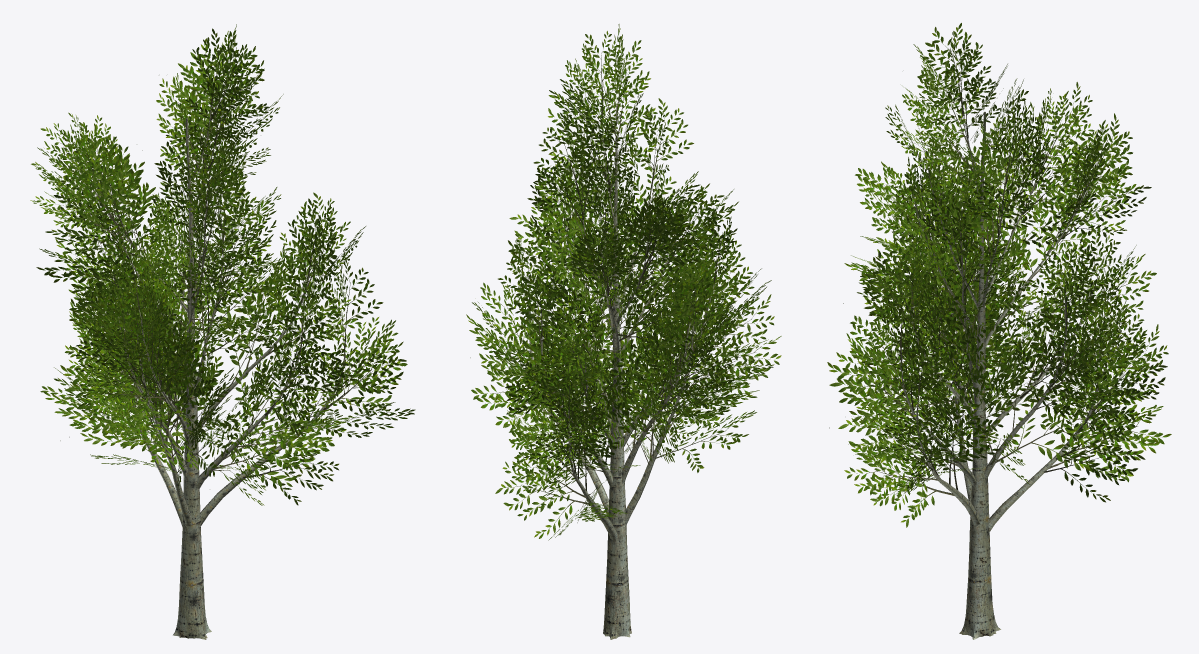
The model's file is Tree 2 N020414.fbx.
3 views of the same model, side by side, from view 1: azimuth 30°, elevation 25°; view 2: azimuth 150°, elevation 25°; view 3: azimuth 270°, elevation 25° (orthographic). The views are drawn at different scales.
Parts seen in each view (by area): view 1: g06, g05; view 2: g06, g05; view 3: g06, g05.
Part boxes in pixels (box(x1,y1,x2,y2)): g06: box(30, 24, 415, 505); g05: box(97, 103, 345, 639); g06: box(466, 24, 781, 540); g05: box(528, 103, 714, 639); g06: box(827, 23, 1171, 527); g05: box(900, 96, 1101, 639).
Size of the model in its own units: 0.1579 by 0.2777 by 0.1444.
